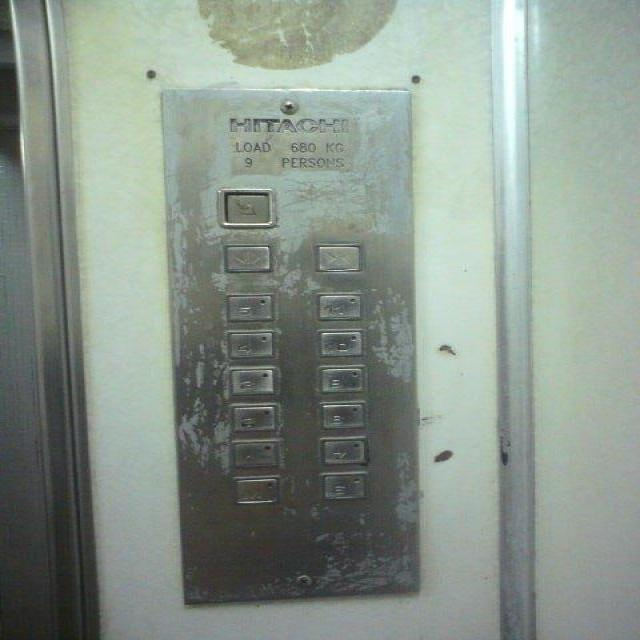10: (313, 325, 364, 357)
11: (313, 289, 364, 321)
2: (224, 401, 280, 434)
3: (222, 364, 278, 397)
4: (222, 327, 278, 360)
5: (220, 290, 276, 323)
6: (317, 469, 368, 501)
7: (317, 434, 368, 466)
8: (316, 398, 367, 430)
9: (316, 362, 367, 394)
blur: (214, 185, 278, 227), (226, 436, 282, 470), (228, 473, 280, 505)
close: (310, 240, 366, 273)
open: (218, 241, 274, 274)
